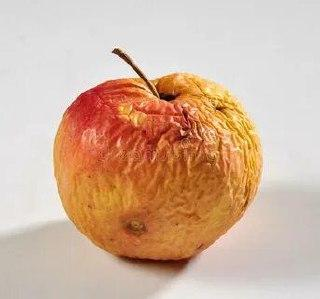Apple: (53, 73, 263, 262)
